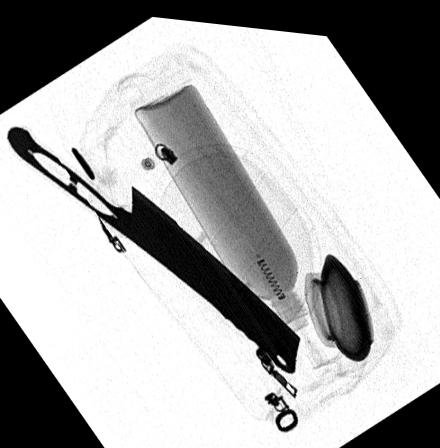Knife: (4, 125, 302, 369)
